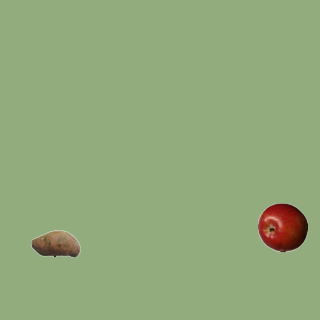Apple Braeburn: (257, 202, 307, 252)
Potato Sweet: (30, 218, 80, 268)
